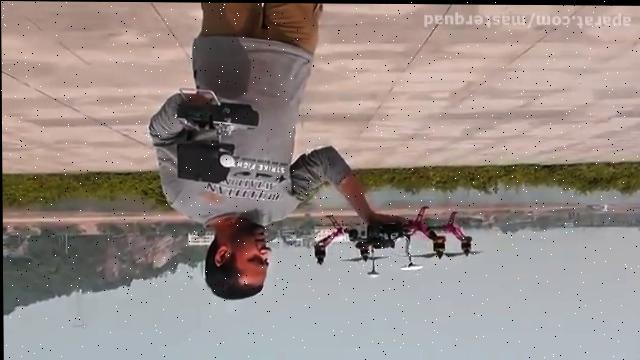drone: (309, 204, 490, 281)
